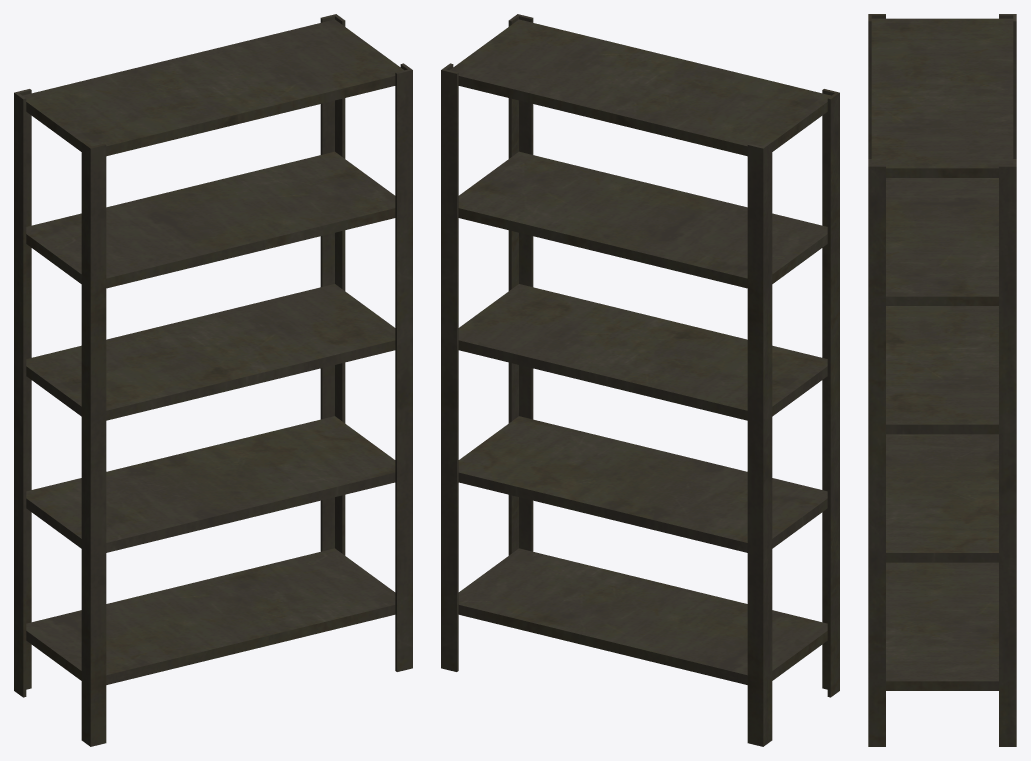
The model's file is shelf_mx_5_2.obj.
The picture shows the model from 3 angles, left to right: view 1: azimuth 30°, elevation 25°; view 2: azimuth 150°, elevation 25°; view 3: azimuth 270°, elevation 25°; orthographic projection. The views are drawn at different scales.
Visible parts, largest first — view 1: shelf_mx_5_2; view 2: shelf_mx_5_2; view 3: shelf_mx_5_2.
Boxes of the visible parts, x1=… form: shelf_mx_5_2: x1=14, y1=14, x2=412, y2=746; shelf_mx_5_2: x1=441, y1=14, x2=839, y2=746; shelf_mx_5_2: x1=868, y1=14, x2=1016, y2=746.
Size of the model in its own units: 1.02 by 1.81 by 0.42.
